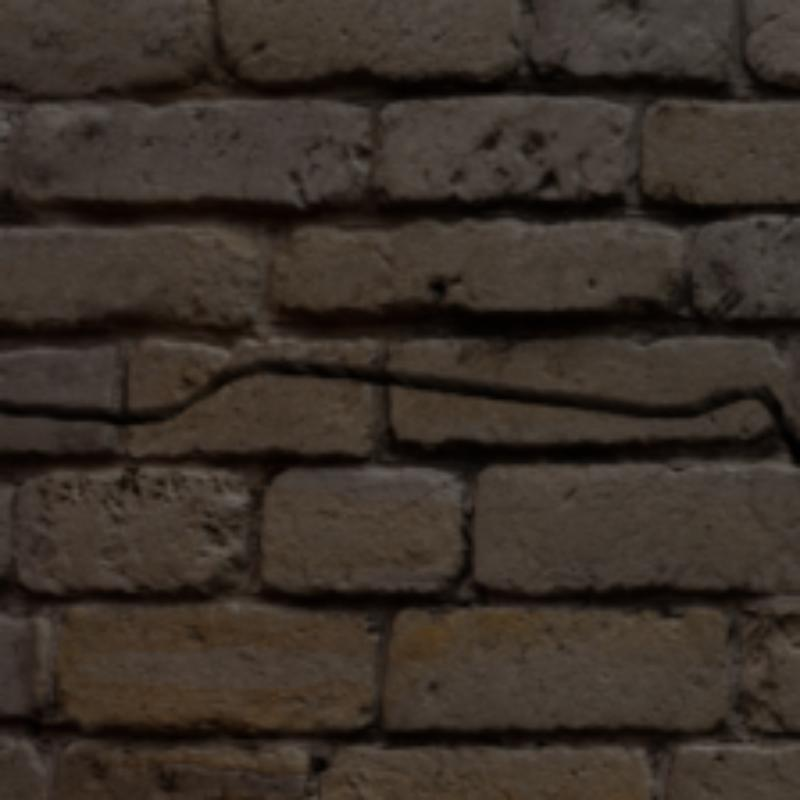pothole: (0, 357, 796, 464)
